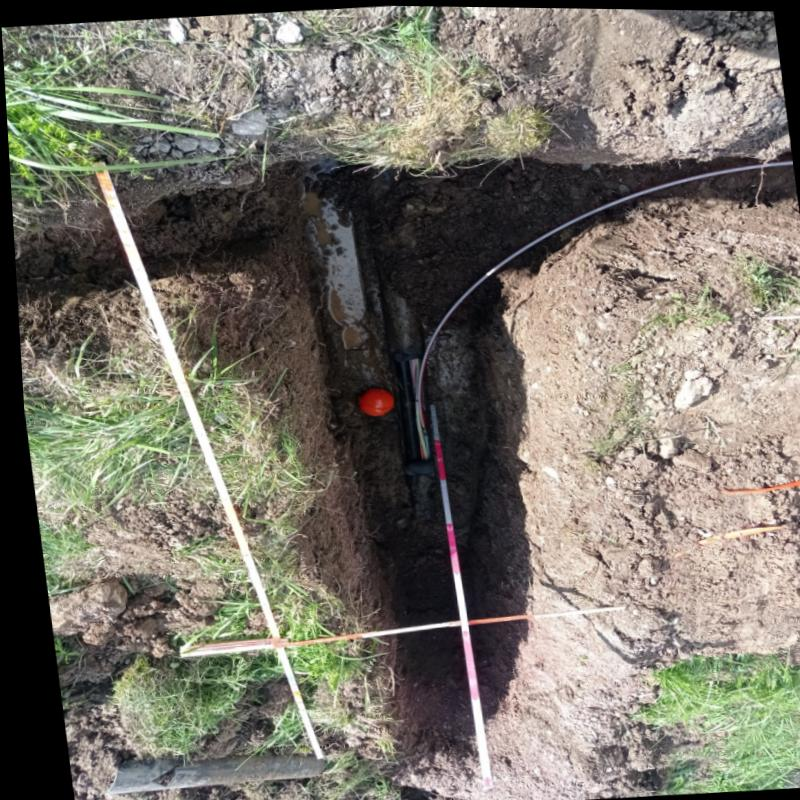Kugelmarker: (355, 389, 388, 414)
